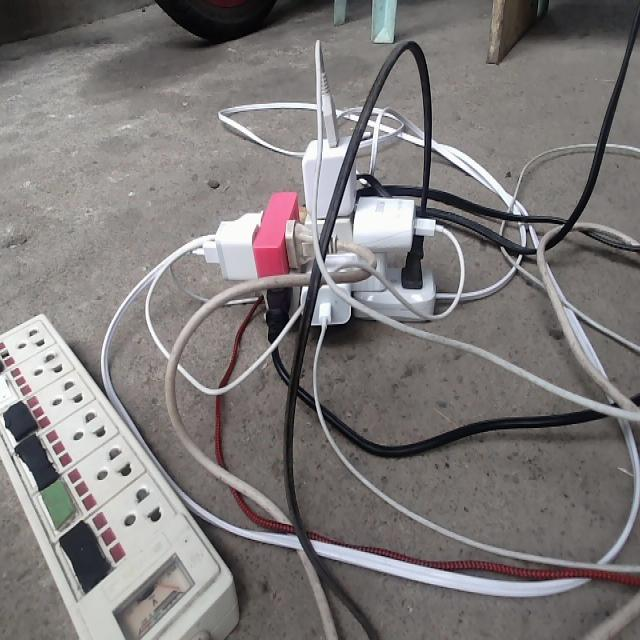-: (190, 36, 464, 341)
